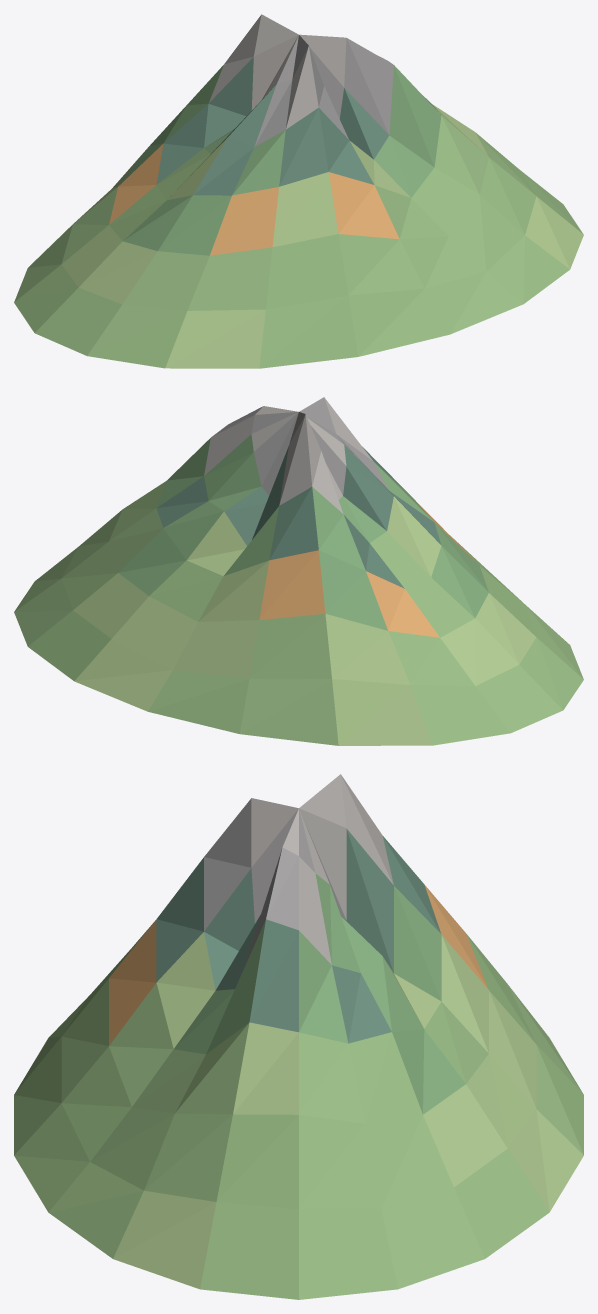
Rendered from bg_mountain_cone_b.glb.
The picture shows the model from 3 angles, top to bottom: view 1: azimuth 30°, elevation 25°; view 2: azimuth 150°, elevation 25°; view 3: azimuth 270°, elevation 25°; orthographic projection. The views are drawn at different scales.
Visible parts, largest first — view 1: bg_mountain_cone_b; view 2: bg_mountain_cone_b; view 3: bg_mountain_cone_b.
Boxes of the visible parts, x1,y1,x2,y2 form: bg_mountain_cone_b: (14, 14, 583, 368); bg_mountain_cone_b: (14, 397, 583, 745); bg_mountain_cone_b: (14, 774, 583, 1299).
Bounding box in the file's own units: 260 × 117 × 179.
